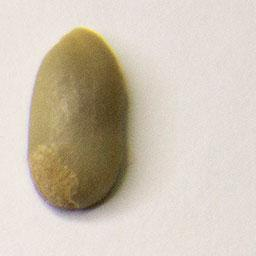longberry: (26, 22, 130, 214)
